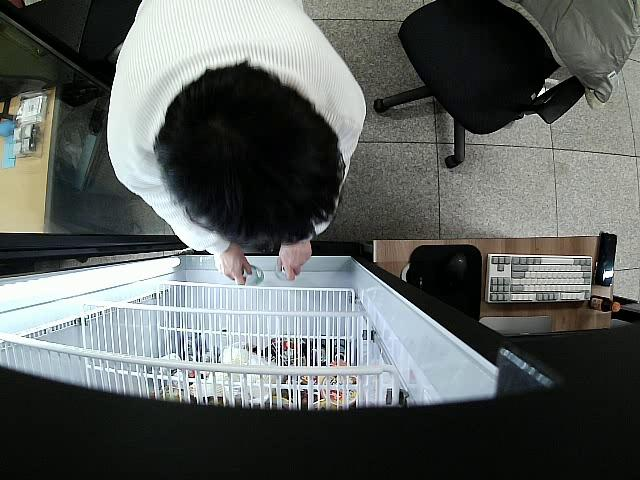00_hand: (214, 245, 252, 286), (276, 244, 311, 278)
18_trevi: (238, 263, 265, 284), (274, 264, 293, 284)
